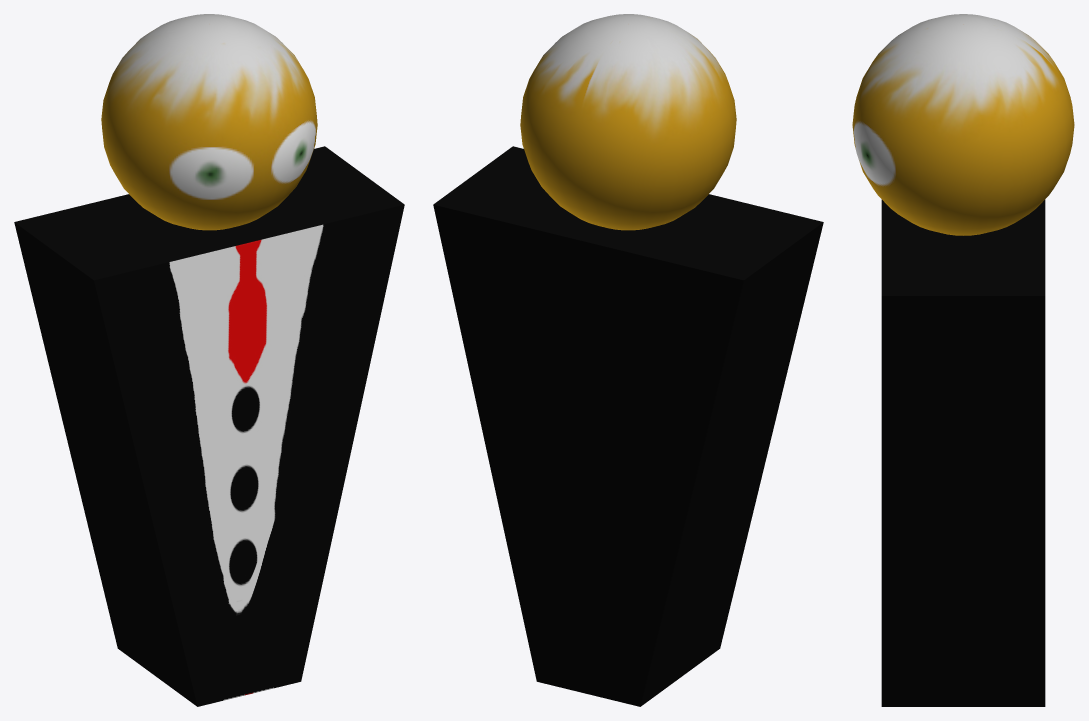
File: Boss.FBX
The picture shows the model from 3 angles, left to right: view 1: azimuth 30°, elevation 25°; view 2: azimuth 150°, elevation 25°; view 3: azimuth 270°, elevation 25°; orthographic projection. The views are drawn at different scales.
Parts seen in each view (by area): view 1: Box001, Box002, Sphere001; view 2: Box002, Sphere001; view 3: Box002, Sphere001.
Boxes of the visible parts, left/top/right/bottom form: Box001: left=94, top=204, right=404, bottom=706; Box002: left=14, top=146, right=404, bottom=706; Sphere001: left=101, top=14, right=317, bottom=230; Box002: left=433, top=146, right=823, bottom=706; Sphere001: left=520, top=14, right=736, bottom=230; Box002: left=881, top=199, right=1045, bottom=706; Sphere001: left=852, top=14, right=1074, bottom=235.
Size of the model in its own units: 36 by 70.96 by 21.74.
